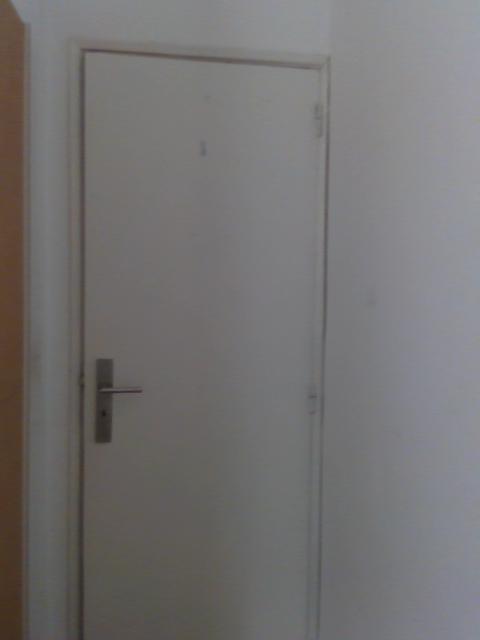door: (82, 53, 314, 640)
